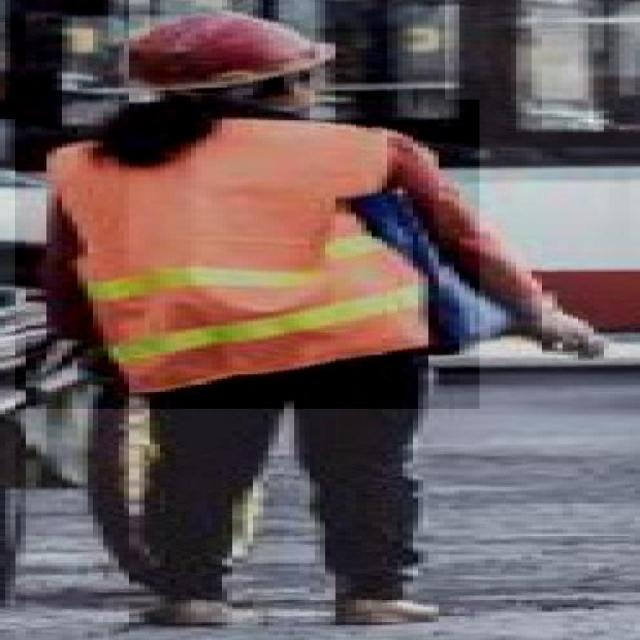Helmet: (0, 0, 445, 119)
Safety Vest: (15, 99, 479, 409)
